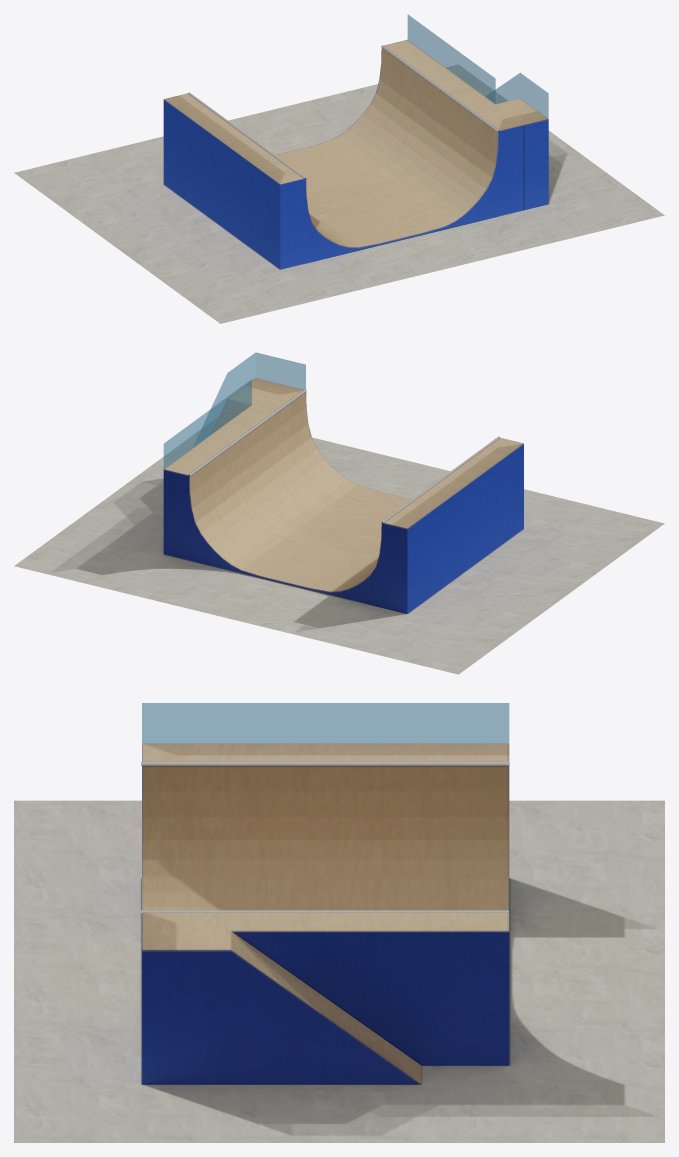
Rendered from halfpipe-skatepark-ramp---low-poly-baked-b98126.glb.
The picture shows the model from 3 angles, top to bottom: view 1: azimuth 30°, elevation 25°; view 2: azimuth 150°, elevation 25°; view 3: azimuth 270°, elevation 25°; orthographic projection. The views are drawn at different scales.
Visible parts, largest first — view 1: PropMesh; view 2: PropMesh; view 3: PropMesh.
Boxes of the visible parts, bbox=[...] form: PropMesh: bbox=[14, 15, 664, 323]; PropMesh: bbox=[14, 352, 664, 674]; PropMesh: bbox=[14, 703, 664, 1142].
Size of the model in its own units: 2.6 by 0.62 by 2.09.
4 materials, 3 textured.
